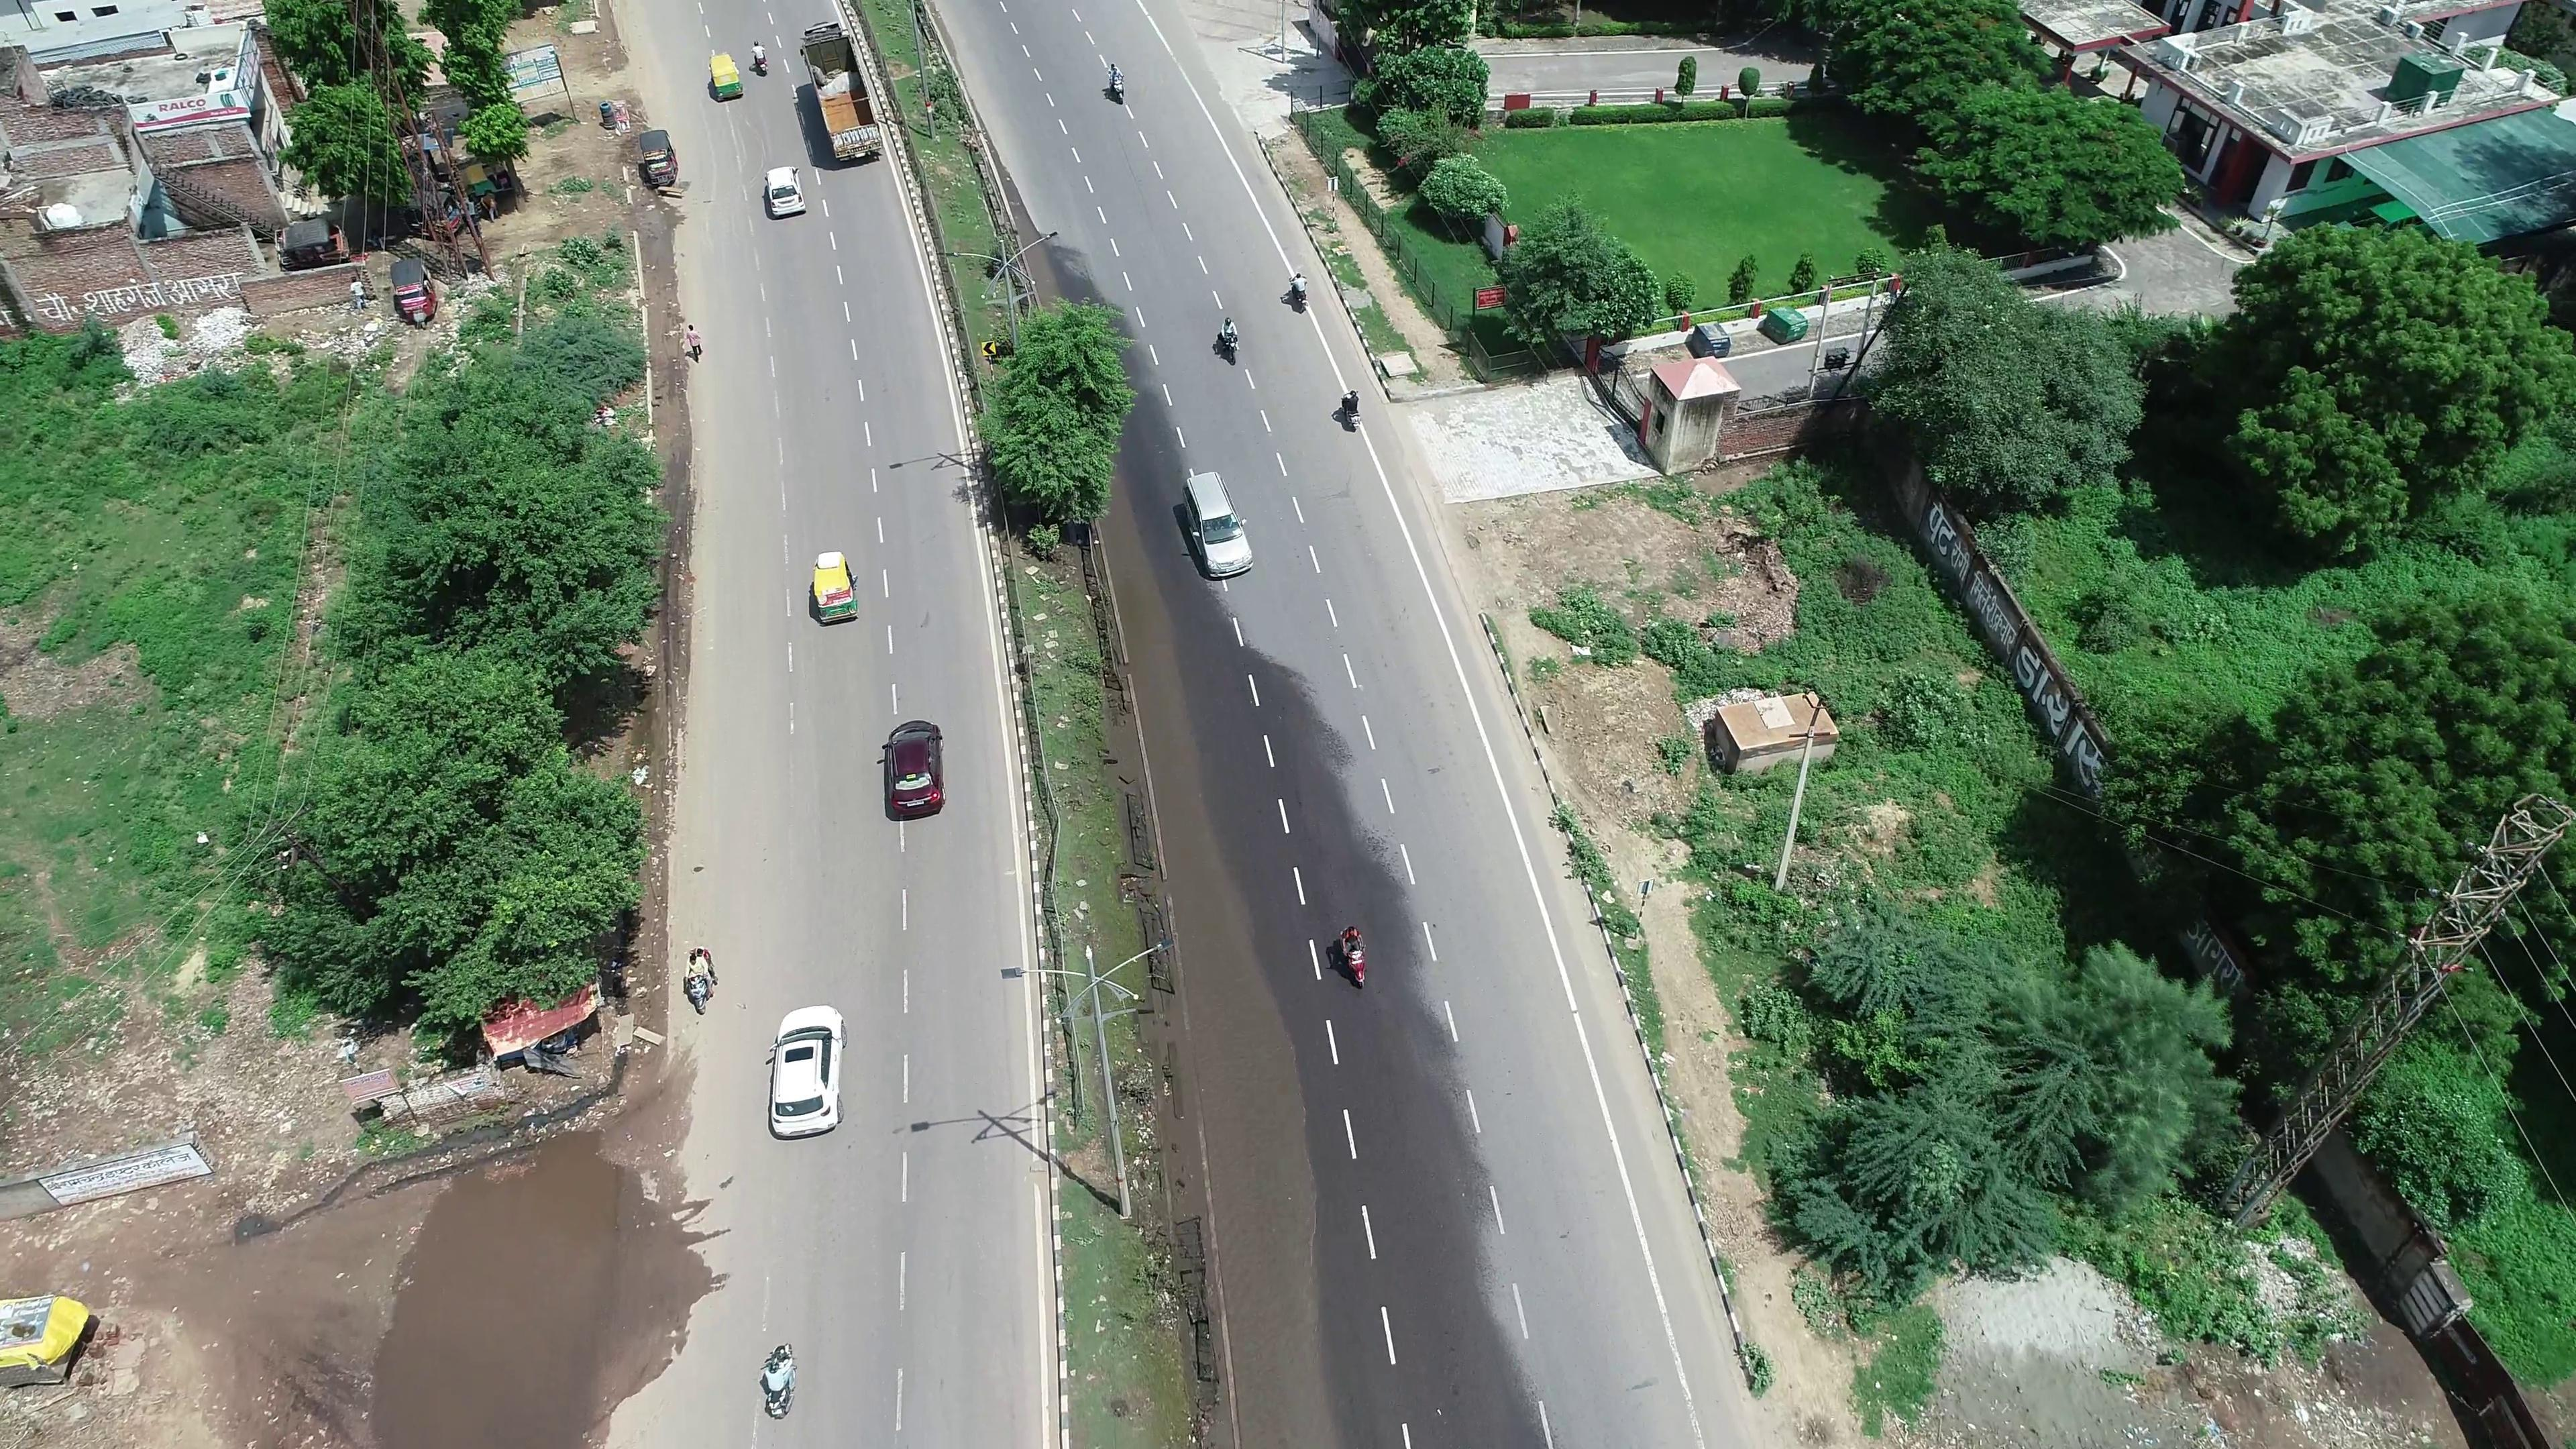Waterlogging: (1171, 842, 1415, 1299)
